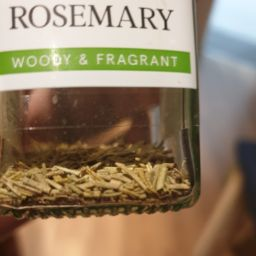Rosemary: (13, 125, 192, 206), (19, 165, 168, 199), (27, 140, 85, 204)
